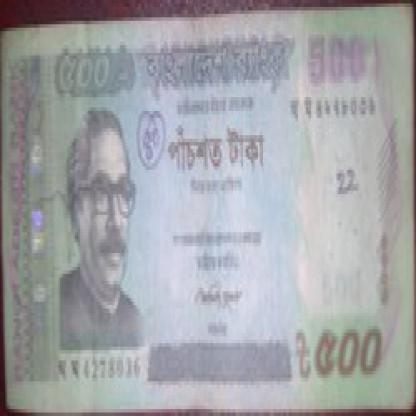500 taka: (166, 124, 272, 190), (37, 35, 133, 104)
currency: (7, 10, 409, 399)
